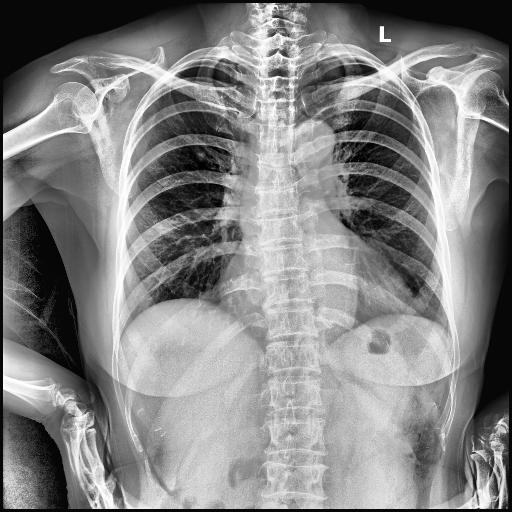0- Aortic enlargement: (286, 118, 336, 176), (285, 120, 334, 172)
13- Pulmonary fibrosis: (195, 150, 206, 159)
3- Cardiomegaly: (215, 261, 420, 331)
